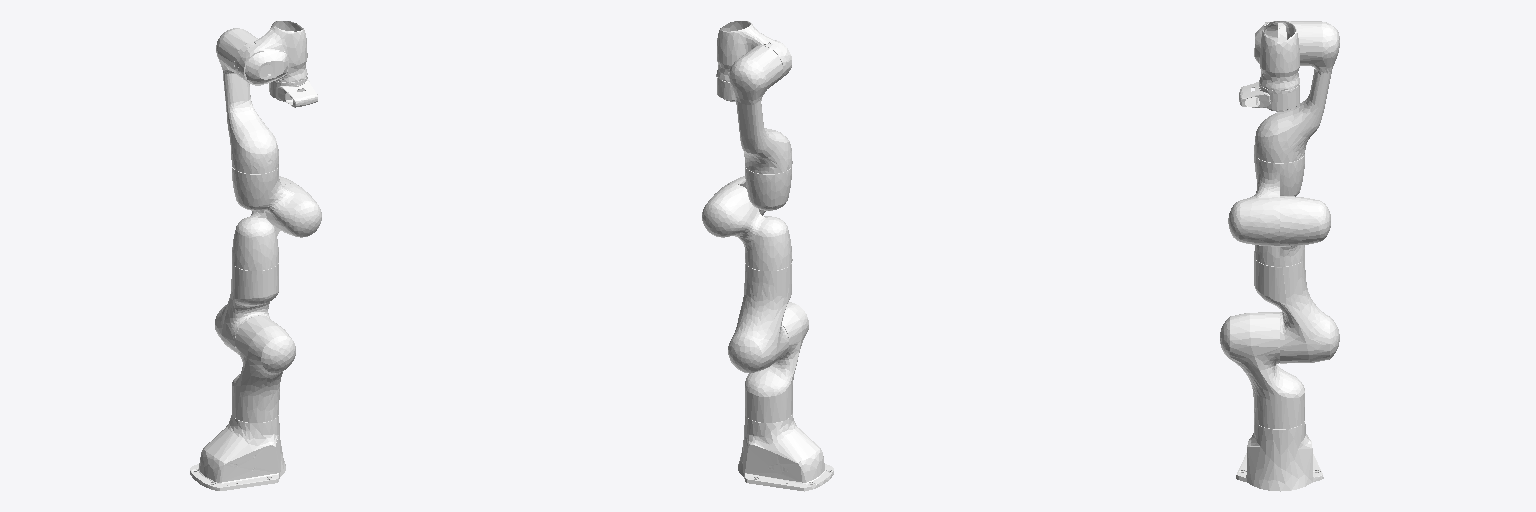
The robot description file, URDF, robot "panda":
<?xml version="1.0"?>
<robot name="panda"
    xmlns:xacro="http://www.ros.org/wiki/xacro">
    <link name="base_link">
        <visual>
            <geometry>
                <mesh filename="link0.stl"/>
            </geometry>
            <material name="panda_white"/>
        </visual>
        <collision>
            <geometry>
                <mesh filename="link0.stl"/>
            </geometry>
            <material name="panda_white"/>
        </collision>
        <inertial>
            <mass value="2.92" />
            <origin xyz="-0.025566 -2.88e-05 0.057332" rpy="0 0 0" />
            <inertia ixx="0.00782229414331" ixy="-1.56191622996e-05" ixz="-0.00126005738123" iyy="0.0109027971813" iyz="1.08233858202e-05" izz="0.0102355503949" />
        </inertial>
    </link>
    <link name="panda_link1">
        <visual>
            <geometry>
                <mesh filename="link1.stl"/>
            </geometry>
            <material name="panda_white"/>
        </visual>
        <collision>
            <geometry>
                <mesh filename="link1.stl"/>
            </geometry>
            <material name="panda_white"/>
        </collision>
        <inertial>
            <mass value="2.74" />
            <origin xyz="0 -0.0324958 -0.0675818" rpy="0 0 0" />
            <inertia ixx="0.0180416958283" ixy="0.0" ixz="0.0" iyy="0.0159136071891" iyz="0.0046758424612" izz="0.00620690827127" />
        </inertial>
    </link>
    <joint name="panda_joint1" type="revolute">
        <safety_controller k_position="100.0" k_velocity="40.0" soft_lower_limit="-2.8973" soft_upper_limit="2.8973"/>
        <origin rpy="0 0 0" xyz="0 0 0.333"/>
        <parent link="base_link"/>
        <child link="panda_link1"/>
        <axis xyz="0 0 1"/>
        <limit effort="87" lower="-2.9671" upper="2.9671" velocity="2.1750"/>
    </joint>
    <link name="panda_link2">
        <visual>
            <geometry>
                <mesh filename="link2.stl"/>
            </geometry>
            <material name="panda_white"/>
        </visual>
        <collision>
            <geometry>
                <mesh filename="link2.stl"/>
            </geometry>
            <material name="panda_white"/>
        </collision>
        <inertial>
            <mass value="2.74" />
            <origin xyz="0 -0.06861 0.0322285" rpy="0 0 0" />
            <inertia ixx="0.0182856182281" ixy="0.0" ixz="0.0" iyy="0.00621358421175" iyz="-0.00472844221905" izz="0.0161514346309" />
        </inertial>
    </link>
    <joint name="panda_joint2" type="revolute">
        <safety_controller k_position="100.0" k_velocity="40.0" soft_lower_limit="-1.7628" soft_upper_limit="1.7628"/>
        <origin rpy="-1.57079632679 0 0" xyz="0 0 0"/>
        <parent link="panda_link1"/>
        <child link="panda_link2"/>
        <axis xyz="0 0 1"/>
        <limit effort="87" lower="-1.8326" upper="1.8326" velocity="2.1750"/>
    </joint>
    <link name="panda_link3">
        <visual>
            <geometry>
                <mesh filename="link3.stl"/>
            </geometry>
            <material name="panda_white"/>
        </visual>
        <collision>
            <geometry>
                <mesh filename="link3.stl"/>
            </geometry>
            <material name="panda_white"/>
        </collision>
        <inertial>
            <mass value="2.38" />
            <origin xyz="0.0469893 0.0316374 -0.031704" rpy="0 0 0" />
            <inertia ixx="0.00771376630908" ixy="-0.00248490625138" ixz="-0.00332147581033" iyy="0.00989108008727" iyz="-0.00217796151484" izz="0.00811723558464" />
        </inertial>
    </link>
    <joint name="panda_joint3" type="revolute">
        <safety_controller k_position="100.0" k_velocity="40.0" soft_lower_limit="-2.8973" soft_upper_limit="2.8973"/>
        <origin rpy="1.57079632679 0 0" xyz="0 -0.316 0"/>
        <parent link="panda_link2"/>
        <child link="panda_link3"/>
        <axis xyz="0 0 1"/>
        <limit effort="87" lower="-2.9671" upper="2.9671" velocity="2.1750"/>
    </joint>
    <link name="panda_link4">
        <visual>
            <geometry>
                <mesh filename="link4.stl"/>
            </geometry>
            <material name="panda_white"/>
        </visual>
        <collision>
            <geometry>
                <mesh filename="link4.stl"/>
            </geometry>
            <material name="panda_white"/>
        </collision>
        <inertial>
            <mass value="2.38" />
            <origin xyz="-0.0360446 0.0336853 0.031882" rpy="0 0 0" />
            <inertia ixx="0.00799663881132" ixy="0.00347095570217" ixz="-0.00241222942995" iyy="0.00825390705278" iyz="0.00235774044121" izz="0.0102515004345" />
        </inertial>
    </link>
    <joint name="panda_joint4" type="revolute">
        <safety_controller k_position="100.0" k_velocity="40.0" soft_lower_limit="-3.0718" soft_upper_limit="-0.0698"/>
        <origin rpy="1.57079632679 0 0" xyz="0.0825 0 0"/>
        <parent link="panda_link3"/>
        <child link="panda_link4"/>
        <axis xyz="0 0 1"/>
        <limit effort="87" lower="-3.1416" upper="0.0" velocity="2.1750"/>
    </joint>
    <link name="panda_link5">
        <visual>
            <geometry>
                <mesh filename="link5.stl"/>
            </geometry>
            <material name="panda_white"/>
        </visual>
        <collision>
            <geometry>
                <mesh filename="link5.stl"/>
            </geometry>
            <material name="panda_white"/>
        </collision>
        <inertial>
            <mass value="2.74" />
            <origin xyz="0 0.0610427 -0.104176" rpy="0 0 0" />
            <inertia ixx="0.030371374513" ixy="6.50283587108e-07" ixz="-1.05129179916e-05" iyy="0.0288752887402" iyz="-0.00775653445787" izz="0.00444134056164" />
        </inertial>
    </link>
    <joint name="panda_joint5" type="revolute">
        <safety_controller k_position="100.0" k_velocity="40.0" soft_lower_limit="-2.8973" soft_upper_limit="2.8973"/>
        <origin rpy="-1.57079632679 0 0" xyz="-0.0825 0.384 0"/>
        <parent link="panda_link4"/>
        <child link="panda_link5"/>
        <axis xyz="0 0 1"/>
        <limit effort="12" lower="-2.9671" upper="2.9671" velocity="2.6100"/>
    </joint>
    <link name="panda_link6">
        <visual>
            <geometry>
                <mesh filename="link6.stl"/>
            </geometry>
            <material name="panda_white"/>
        </visual>
        <collision>
            <geometry>
                <mesh filename="link6.stl"/>
            </geometry>
            <material name="panda_white"/>
        </collision>
        <inertial>
            <mass value="1.55" />
            <origin xyz="0.0510509 0.009108 0.0106343" rpy="0 0 0" />
            <inertia ixx="0.00303336450376" ixy="-0.000437276865508" ixz="0.000629257294877" iyy="0.00404479911567" iyz="0.000130472021025" izz="0.00558234286039" />
        </inertial>
    </link>
    <joint name="panda_joint6" type="revolute">
        <safety_controller k_position="100.0" k_velocity="40.0" soft_lower_limit="-0.0175" soft_upper_limit="3.7525"/>
        <origin rpy="1.57079632679 0 0" xyz="0 0 0"/>
        <parent link="panda_link5"/>
        <child link="panda_link6"/>
        <axis xyz="0 0 1"/>
        <limit effort="12" lower="-0.0873" upper="3.8223" velocity="2.6100"/>
    </joint>
    <link name="panda_link7">
        <visual>
            <geometry>
                <mesh filename="link7.stl"/>
            </geometry>
            <material name="panda_white"/>
        </visual>
        <collision>
            <geometry>
                <mesh filename="link7.stl"/>
            </geometry>
            <material name="panda_white"/>
        </collision>
        <inertial>
            <mass value="0.54" />
            <origin xyz="0.0109695 0.0107965 0.0650411" rpy="0 0 0" />
            <inertia ixx="0.000888868887021" ixy="-0.00012239074652" ixz="3.98699829666e-05" iyy="0.000888001373233" iyz="-9.33825115206e-05" izz="0.0007176834609" />
        </inertial>
    </link>
    <joint name="panda_joint7" type="revolute">
        <safety_controller k_position="100.0" k_velocity="40.0" soft_lower_limit="-2.8973" soft_upper_limit="2.8973"/>
        <origin rpy="1.57079632679 0 0" xyz="0.088 0 0"/>
        <parent link="panda_link6"/>
        <child link="panda_link7"/>
        <axis xyz="0 0 1"/>
        <limit effort="12" lower="-2.9671" upper="2.9671" velocity="2.6100"/>
    </joint>
    <material name="panda_white">
        <color rgba="1. 1. 1. 1."/>
    </material>
</robot>

--- Render facts (derived) ---
The picture shows the robot from 3 angles, left to right: view 1: azimuth 30°, elevation 25°; view 2: azimuth 150°, elevation 25°; view 3: azimuth 270°, elevation 25°; orthographic projection.
Robot: panda — 8 links, 7 joints (7 revolute); root link base_link; default pose: all joints at 0.
Visible links, largest first — view 1: base_link, panda_link1, panda_link5, panda_link4, panda_link6, panda_link2, panda_link3, panda_link7; view 2: base_link, panda_link2, panda_link5, panda_link3, panda_link1, panda_link6, panda_link4; view 3: panda_link1, panda_link5, panda_link2, base_link, panda_link4, panda_link3, panda_link6, panda_link7.
Link boxes in pixels (box(x1,y1,x2,y2)): base_link: box(190, 415, 285, 490); panda_link1: box(232, 315, 295, 422); panda_link5: box(216, 28, 278, 173); panda_link4: box(232, 167, 321, 237); panda_link6: box(234, 20, 307, 85); panda_link2: box(215, 263, 278, 354); panda_link3: box(232, 176, 298, 270); panda_link7: box(269, 77, 317, 107); base_link: box(738, 413, 833, 491); panda_link2: box(728, 263, 791, 372); panda_link5: box(729, 46, 792, 173); panda_link3: box(702, 184, 792, 270); panda_link1: box(745, 302, 808, 422); panda_link6: box(716, 21, 791, 81); panda_link4: box(725, 167, 791, 215); panda_link1: box(1220, 312, 1304, 428); panda_link5: box(1254, 21, 1339, 162); panda_link2: box(1254, 257, 1339, 363); base_link: box(1236, 418, 1323, 491); panda_link4: box(1228, 154, 1304, 246); panda_link3: box(1254, 196, 1330, 266); panda_link6: box(1254, 21, 1299, 90); panda_link7: box(1239, 82, 1299, 111).
Bounding box of the posed robot: 0.2913 × 0.2594 × 1.11 m (x, y, z).
Meshes: 8 distinct files referenced, 8 mesh visuals loaded (8 binary STL).